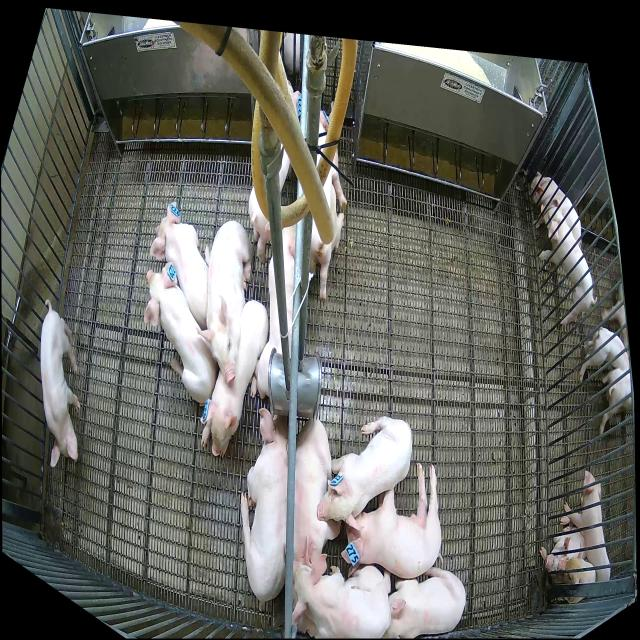pig: (342, 460, 442, 579), (317, 416, 412, 530), (200, 300, 268, 458), (144, 262, 216, 404), (248, 81, 301, 263), (196, 222, 253, 385), (240, 409, 288, 601), (292, 554, 391, 638), (150, 202, 212, 331), (293, 418, 340, 572), (254, 224, 296, 396), (41, 300, 81, 467), (293, 569, 382, 640), (382, 566, 466, 638), (311, 110, 347, 253), (310, 119, 332, 301)
